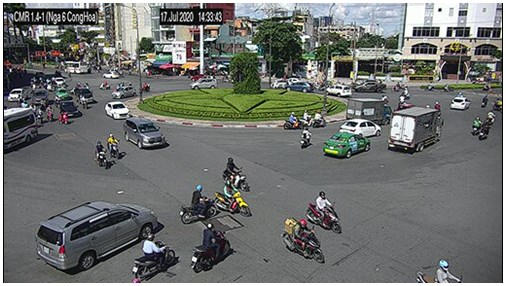xe_ban_tai: (352, 79, 388, 93)
xe_hoi: (36, 201, 157, 271), (123, 117, 168, 151), (324, 132, 370, 158), (341, 119, 382, 139), (104, 101, 130, 119), (189, 78, 219, 89), (112, 86, 136, 99), (286, 82, 313, 93), (8, 88, 28, 102), (450, 96, 470, 110), (326, 86, 351, 97), (31, 89, 49, 104), (102, 70, 119, 79), (56, 87, 68, 99), (53, 77, 64, 86)
xe_may: (191, 223, 230, 274), (133, 233, 175, 280), (283, 216, 325, 263), (308, 192, 341, 234), (181, 185, 215, 225), (217, 181, 251, 218), (223, 157, 249, 191), (94, 141, 107, 169), (283, 112, 303, 130), (107, 133, 119, 161), (301, 110, 314, 129), (313, 109, 326, 128), (57, 104, 68, 126), (301, 128, 311, 150), (471, 115, 481, 135), (481, 118, 489, 139), (393, 80, 408, 91), (486, 109, 495, 125), (494, 97, 503, 113), (397, 93, 406, 108), (440, 84, 455, 93), (37, 106, 44, 125), (424, 81, 436, 92), (79, 94, 87, 110), (99, 78, 109, 90), (46, 105, 53, 122), (481, 94, 488, 107), (142, 81, 150, 91)
xe_tai: (389, 106, 443, 152), (346, 97, 392, 125)
